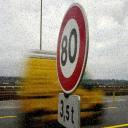speed_limit_80: (56, 3, 89, 94)
